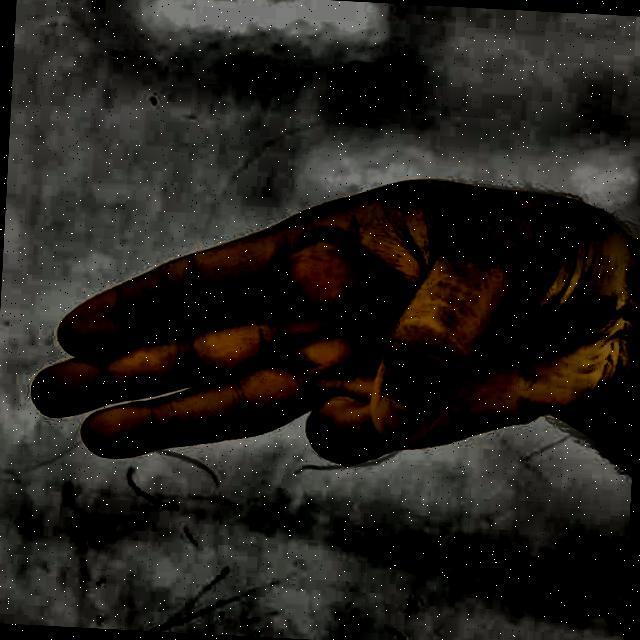Ma: (13, 146, 632, 534)
